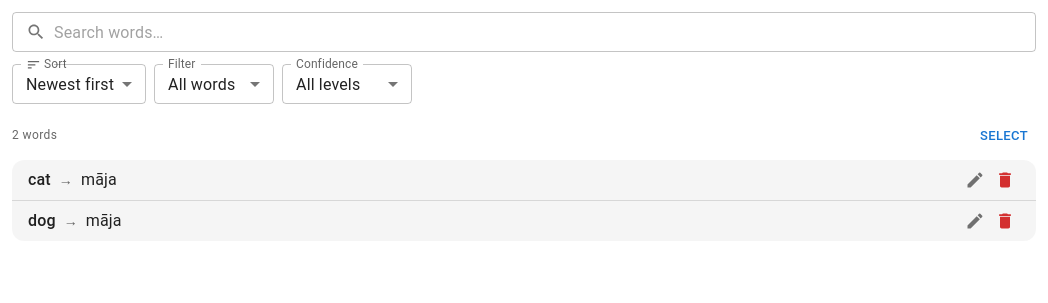
Scenario: WordList › should select all words when select-all is checked
Click the button "Select" at (1004, 136), box [972,121,1036,151]
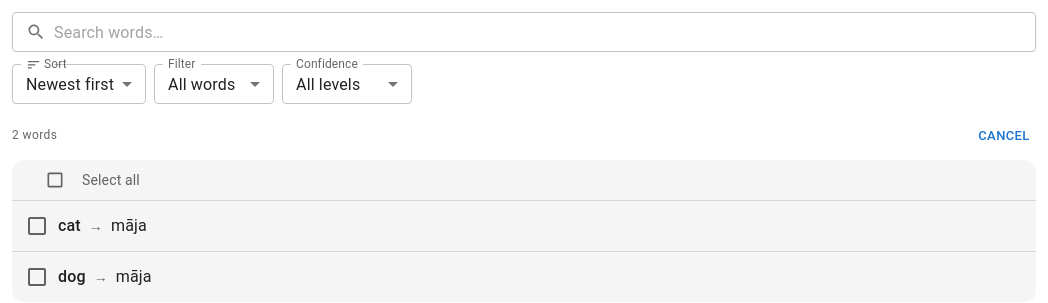
Click the checkbox named "Select all visible words" at (55, 180), box [45,170,65,190]
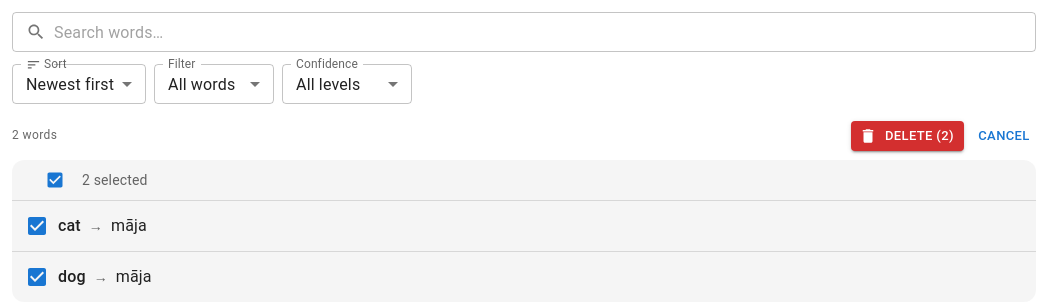
expect the button "Delete (2)" is shown: met, box [851,121,964,151]
